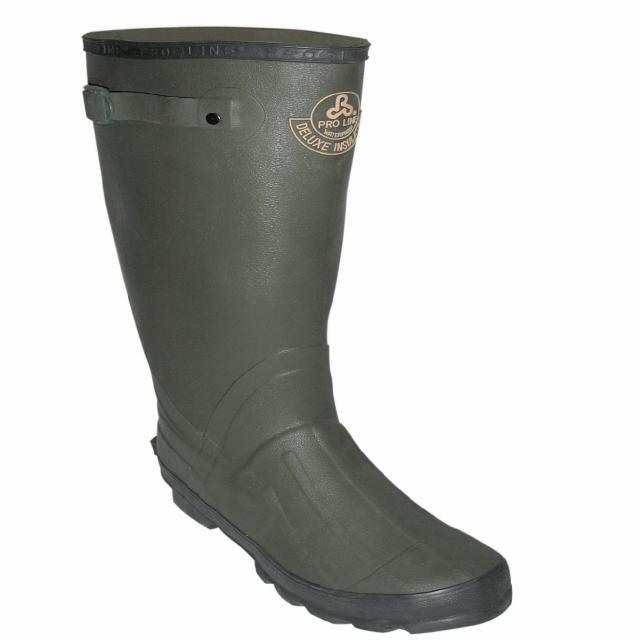boot: (44, 20, 520, 636)
